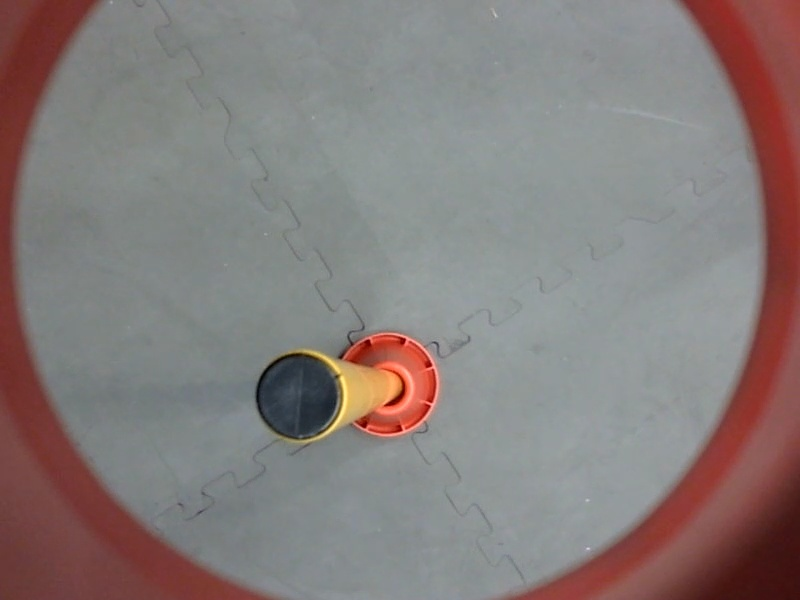tip: (248, 344, 348, 451)
